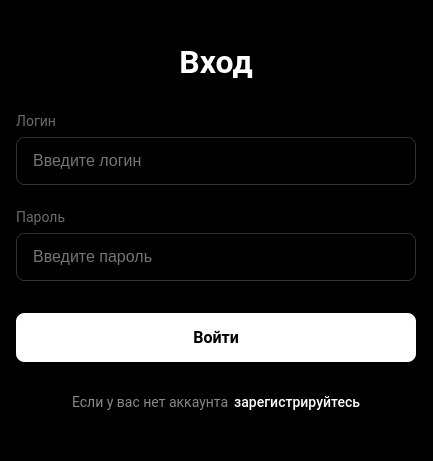
it: LoginPage › shows error if fields are empty
Click the button "Войти" at (216,337), box [16,312,416,362]
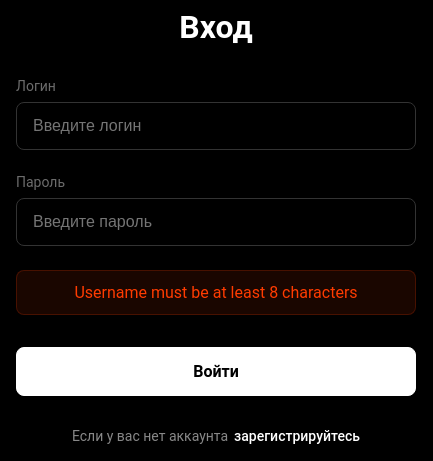
Now the text "Username must be at least 8 characters" is shown, box [16,270,416,315]
